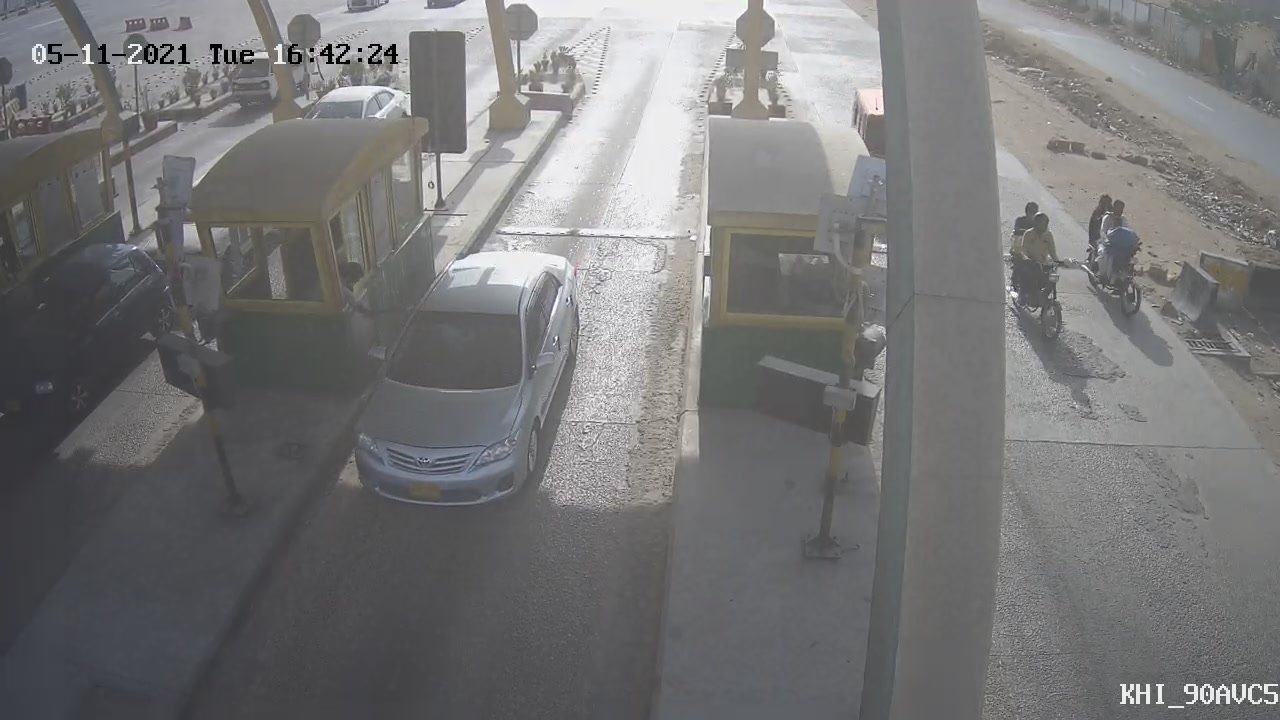F1: (327, 227, 601, 536)
